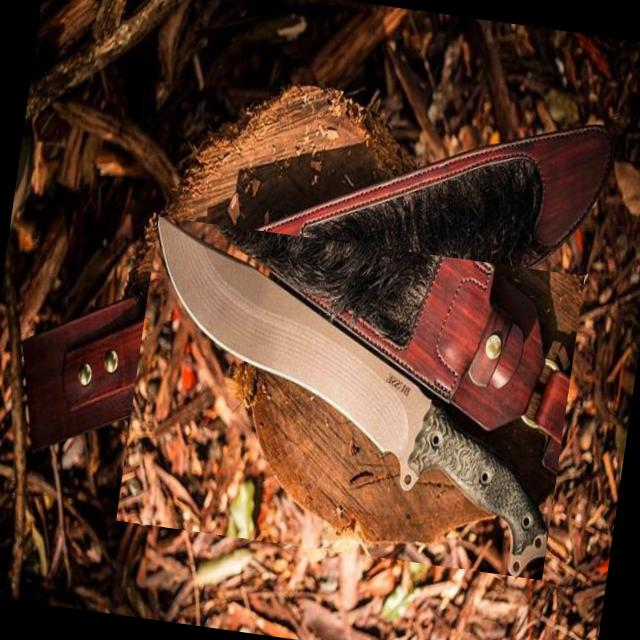Knife: (159, 217, 547, 577)
